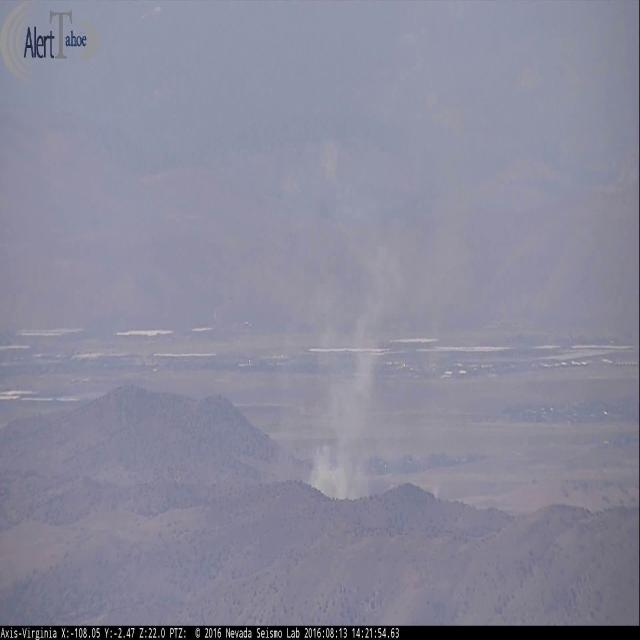smoke: (263, 119, 414, 500)
